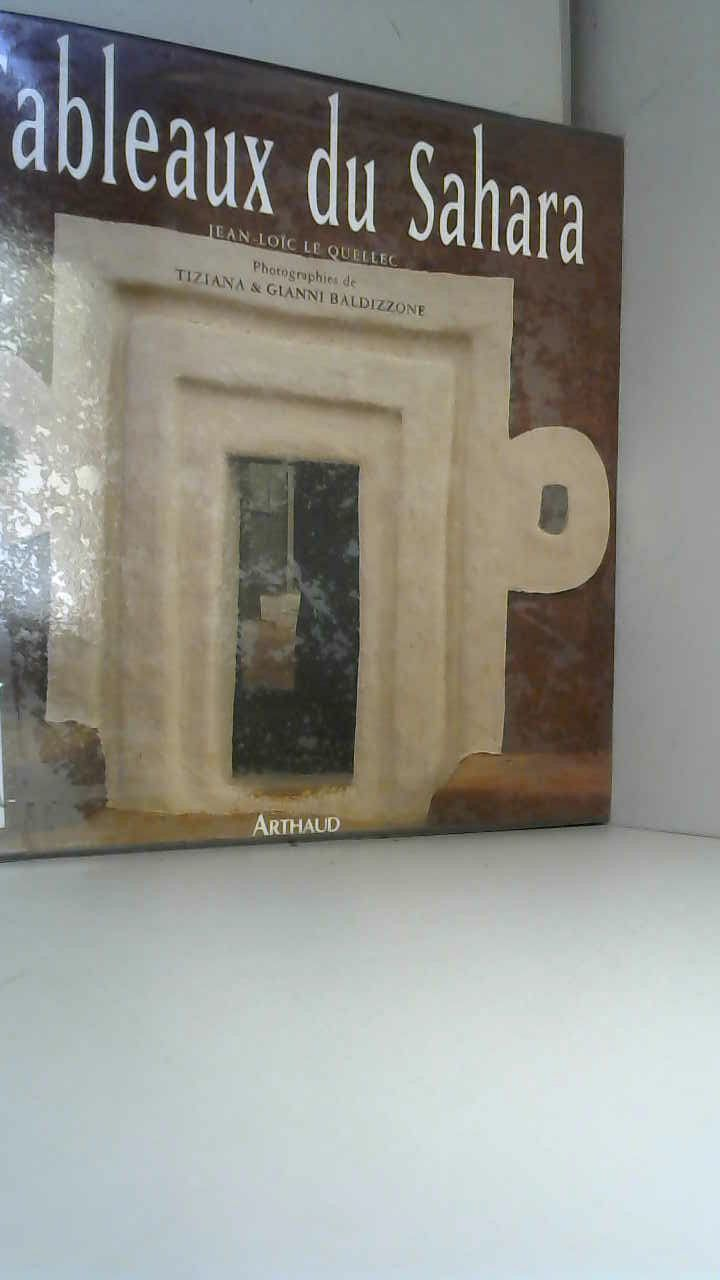book: (0, 6, 656, 884)
